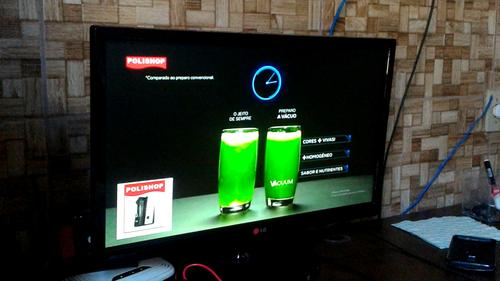Polishop #1: (115, 175, 173, 238)
